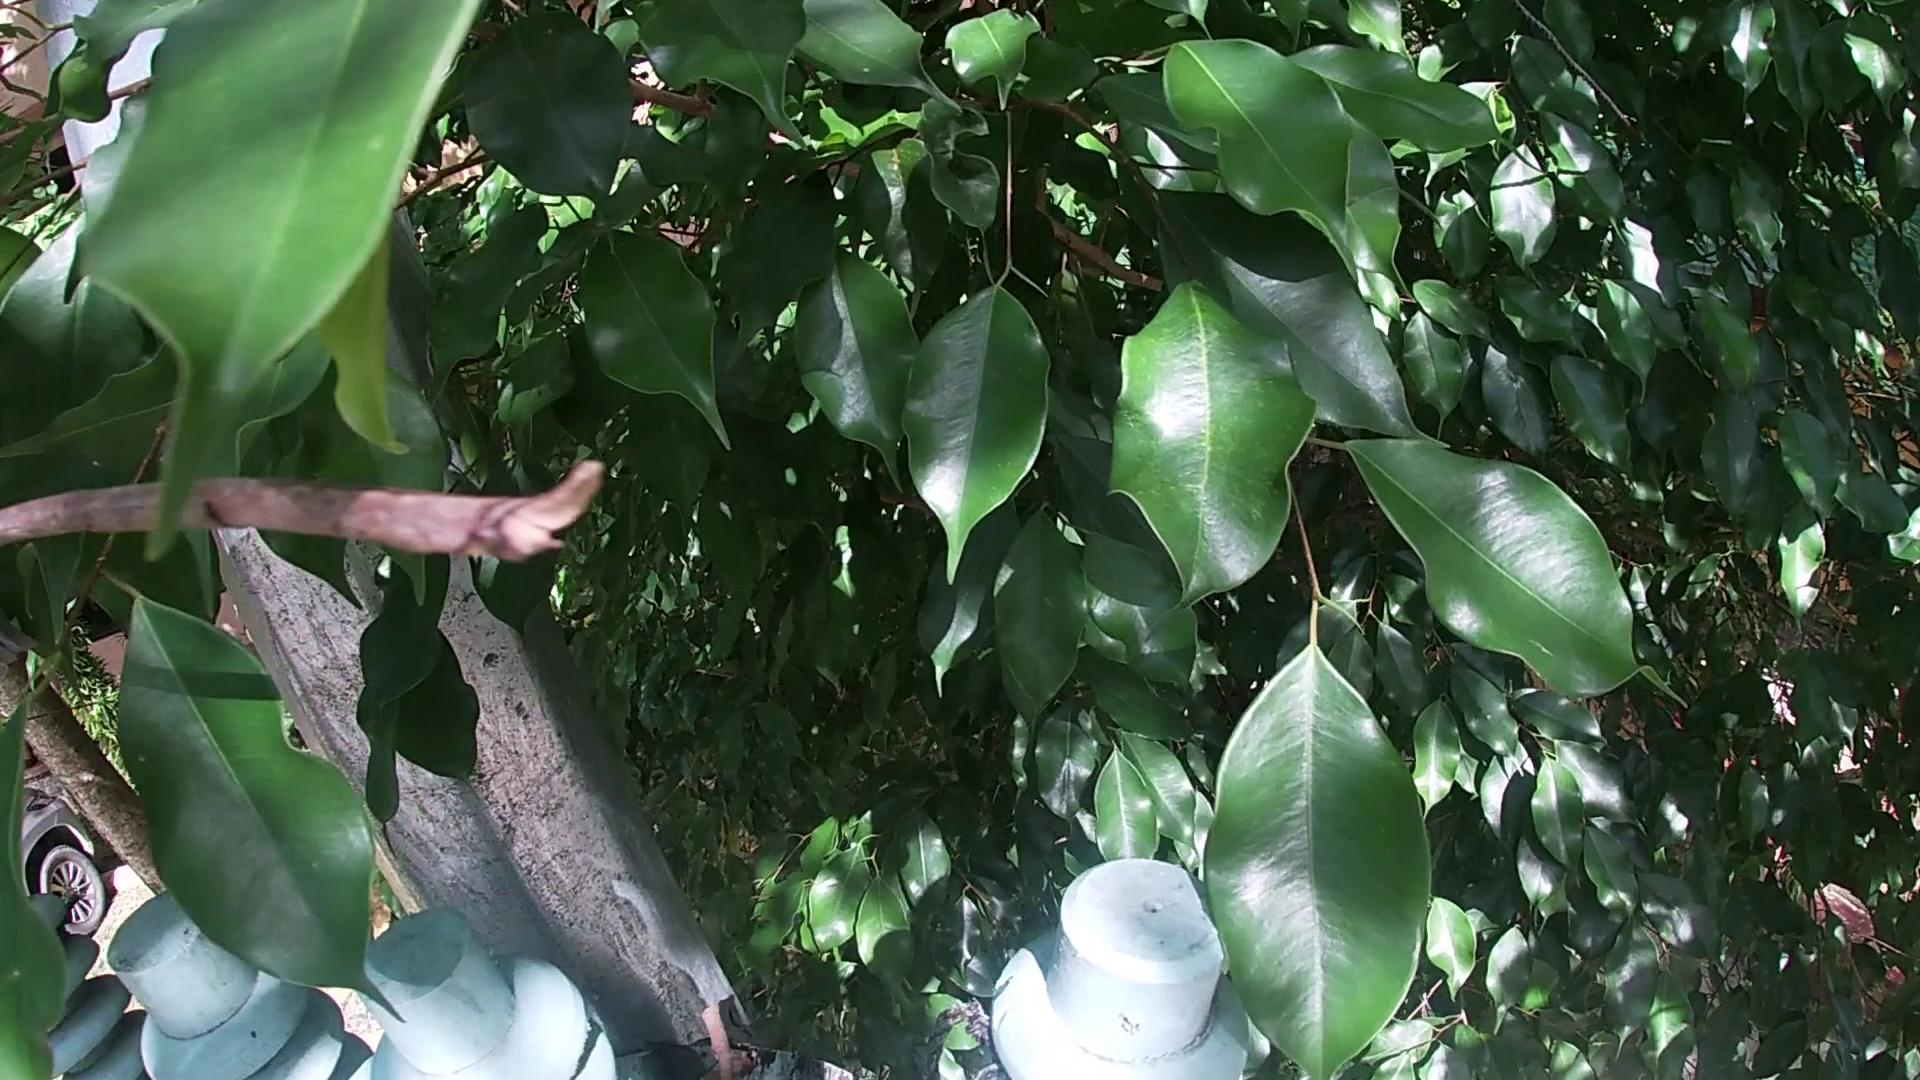tree branch: (1, 415, 665, 636), (698, 1004, 735, 1073), (700, 1048, 760, 1080)
